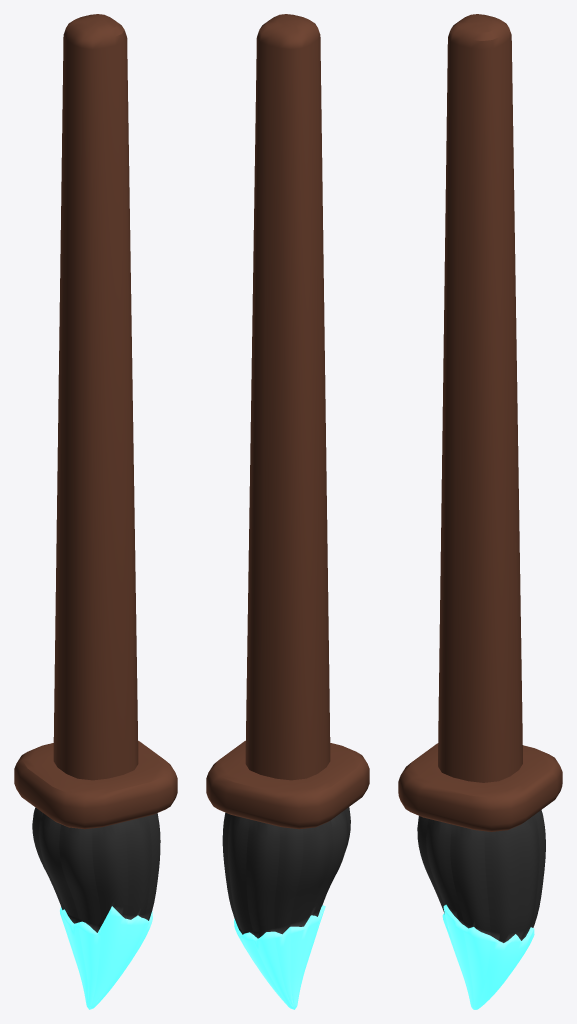
Rendered from Brush01 (1).fbx.
3 renders of one model, left to right at view 1: azimuth 30°, elevation 25°; view 2: azimuth 150°, elevation 25°; view 3: azimuth 330°, elevation 25°, orthographic.
Parts seen in each view (by area): view 1: Brush; view 2: Brush; view 3: Brush.
Part boxes in pixels (box(x1,y1,x2,y2)): Brush: box(14, 14, 177, 1009); Brush: box(206, 14, 369, 1009); Brush: box(398, 14, 562, 1009).
Bounding box in the file's own units: 50.21 × 388 × 50.21.
